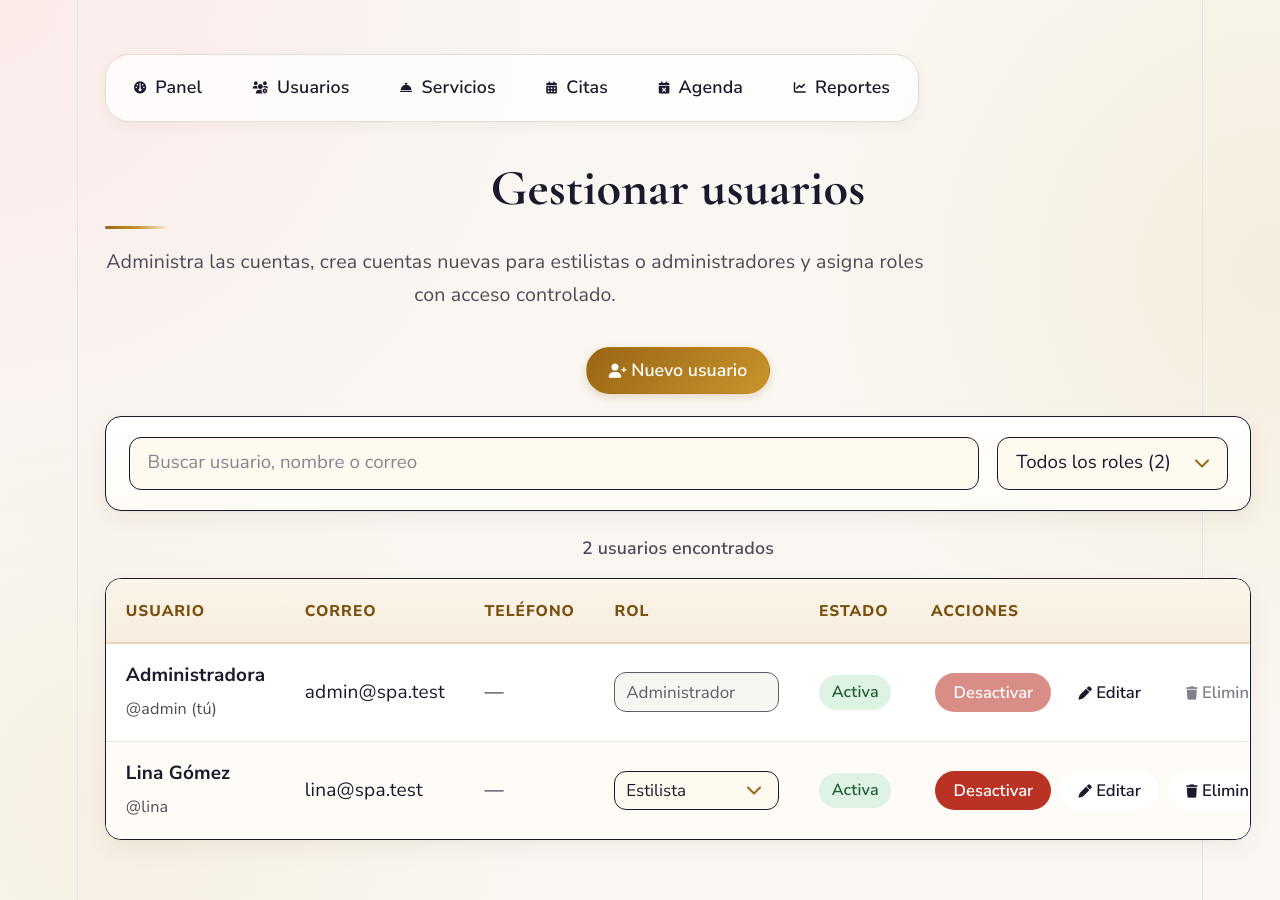
it: AdminUsers › muestra el motivo cuando el backend rechaza la desactivación
Check: the text "Lina Gómez" is shown, box [126,760,230,786]
What coordinates should you click on to do the following:
click the button "Desactivar" in the row of "Lina Gómez"
I would click on:
 (993, 790)
Its box is [935,771,1051,810].
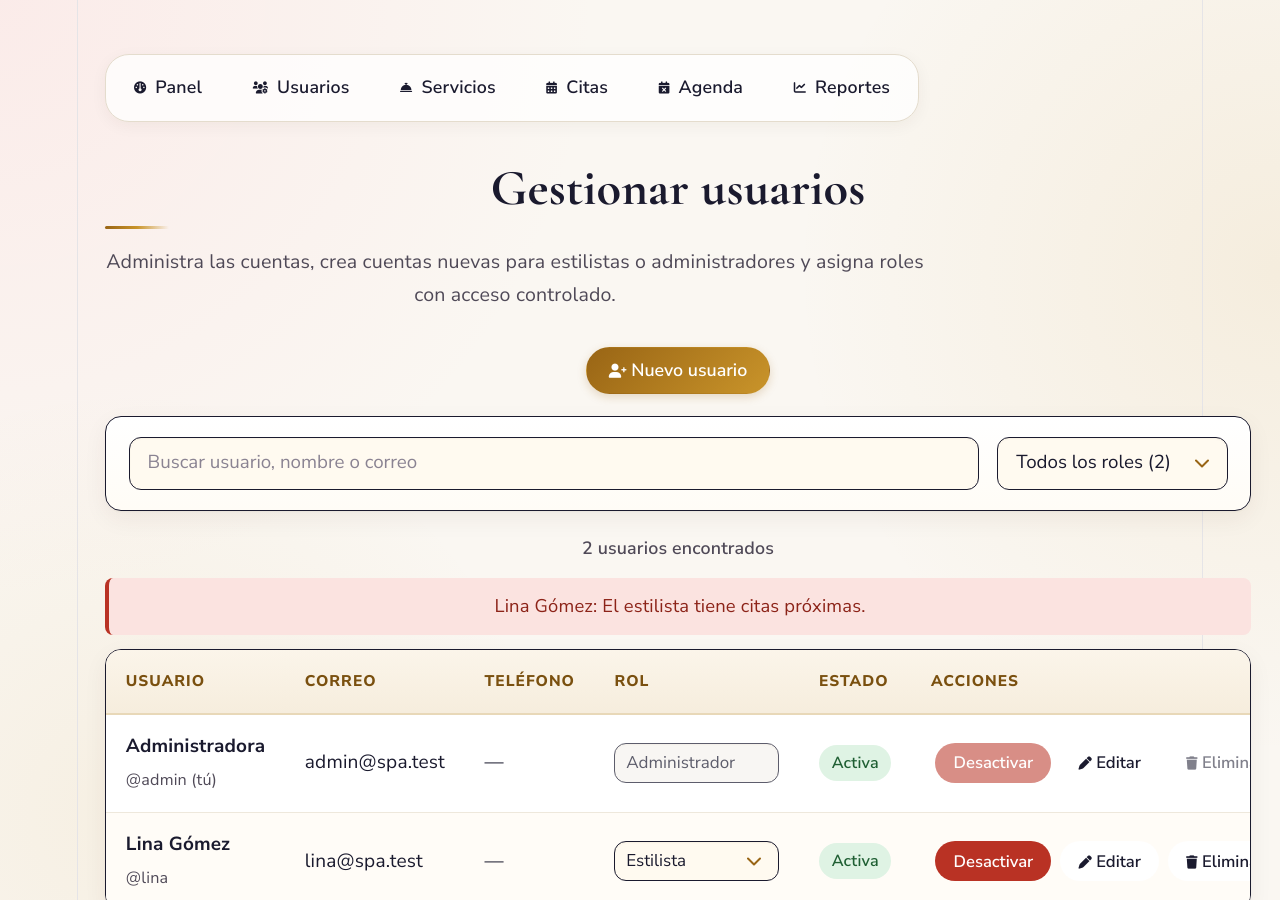
Check: the message reads "Lina Gómez: El estilista tiene citas próximas.", box [494,593,866,618]
